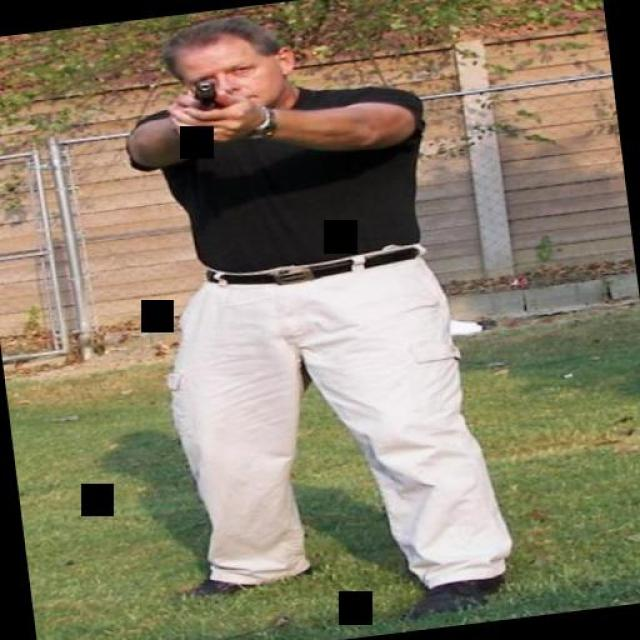gun: (188, 78, 222, 112)
